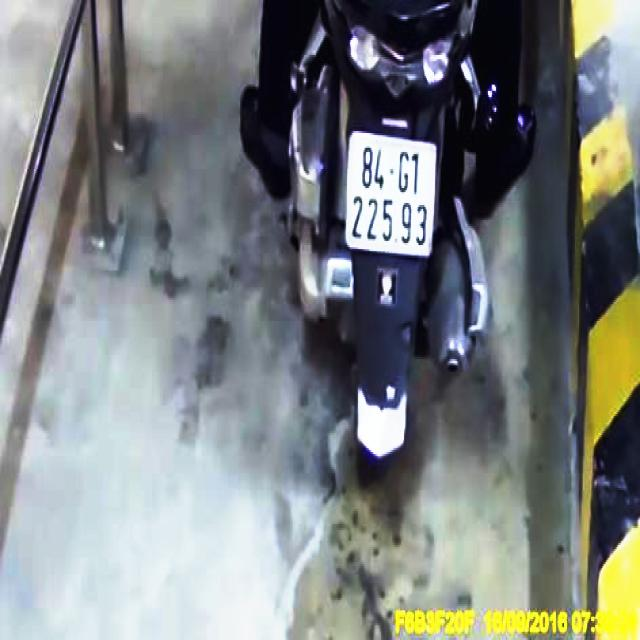license_plate: (349, 133, 437, 258)
